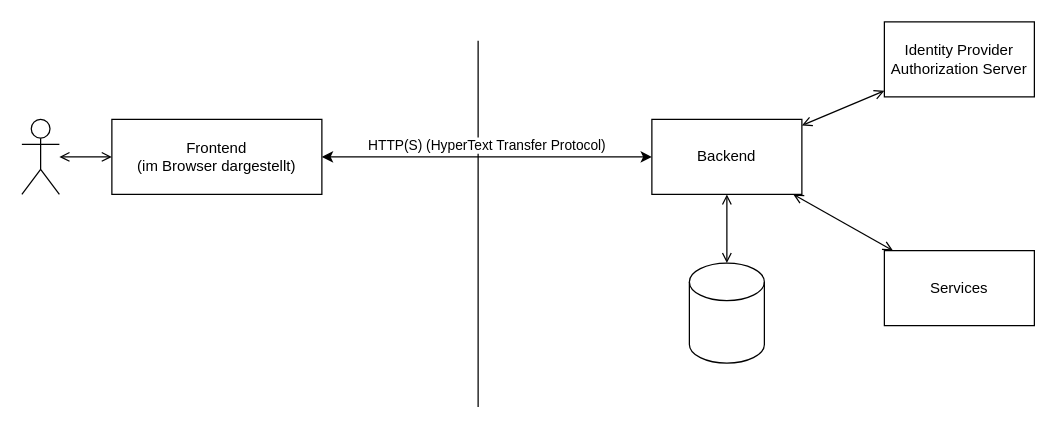
Image size: 1056x430. Some labels were removed from this diagram. Here are the shapes that lost their labels. From the top down, the centre of each, then its label:
At (40,156): "User".
At (726,312): "Datenbank".
